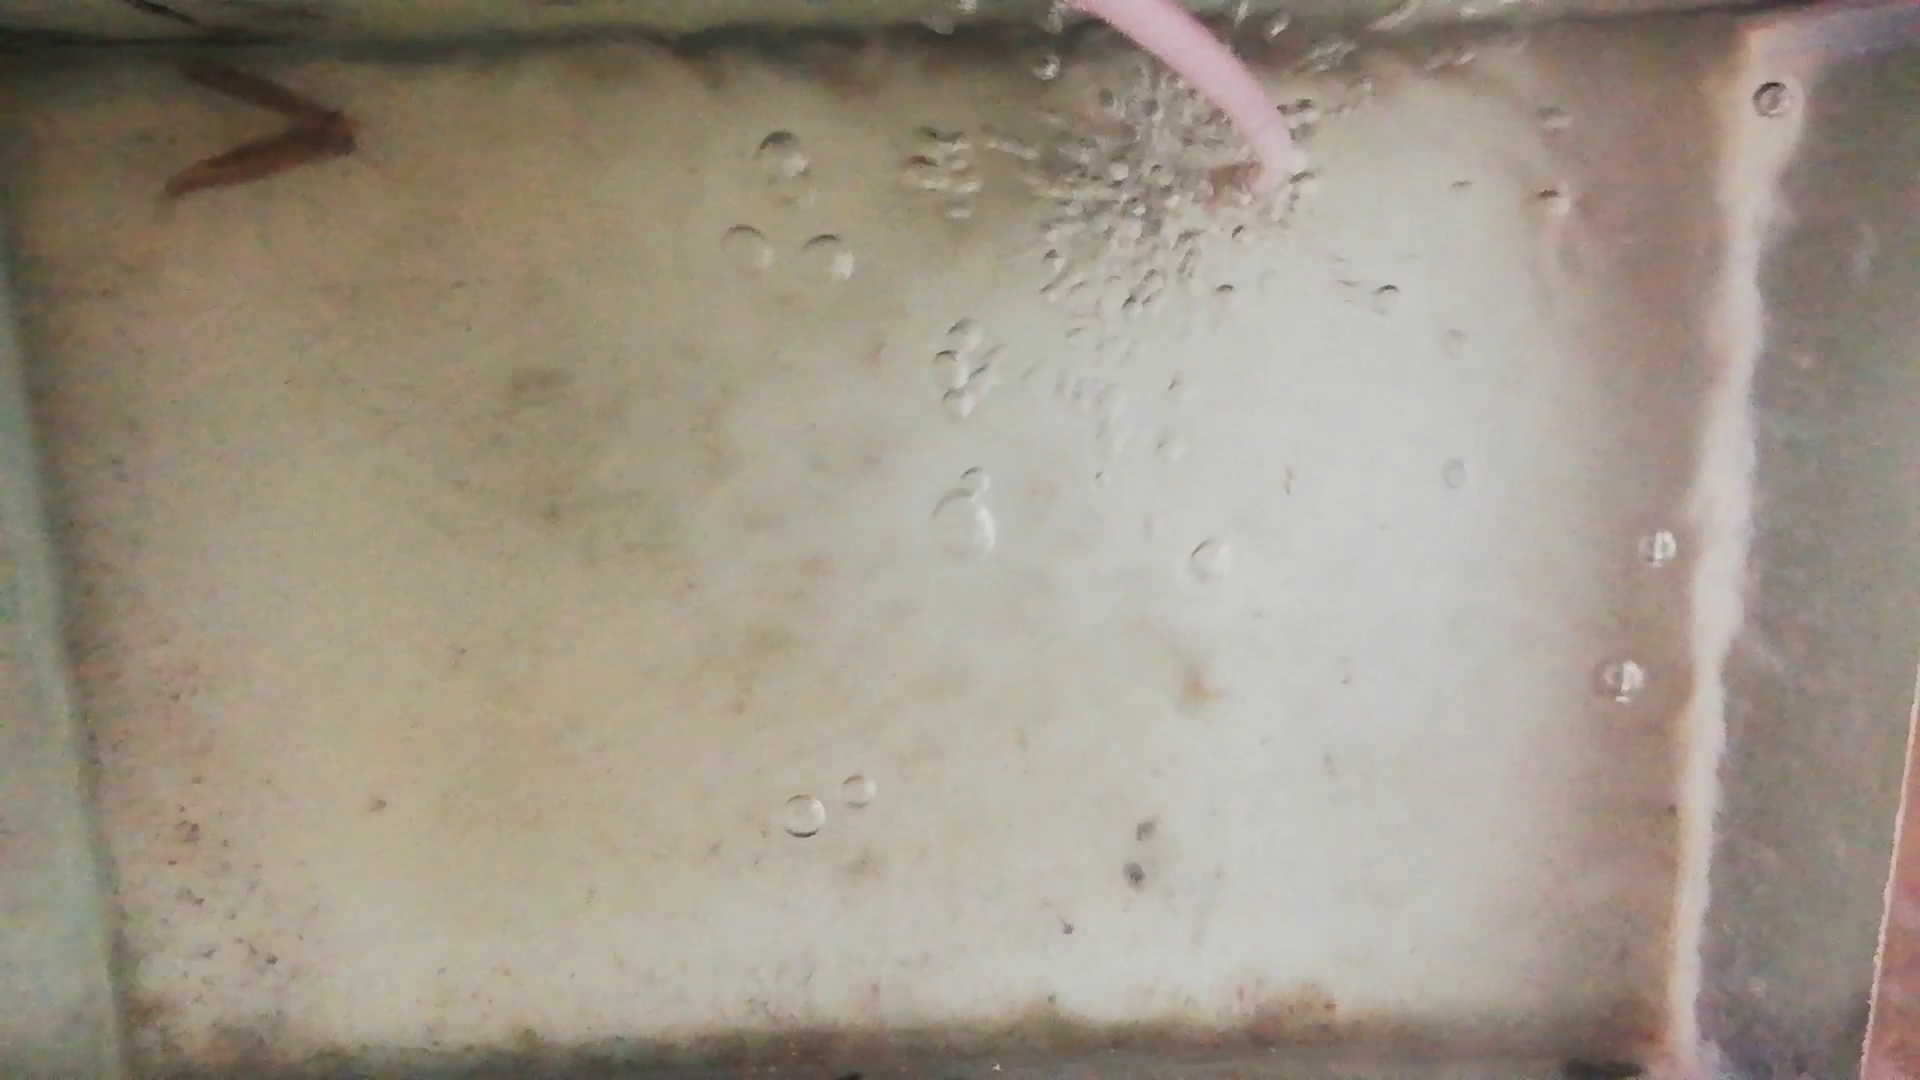fish: (158, 112, 363, 200), (164, 51, 345, 129)
